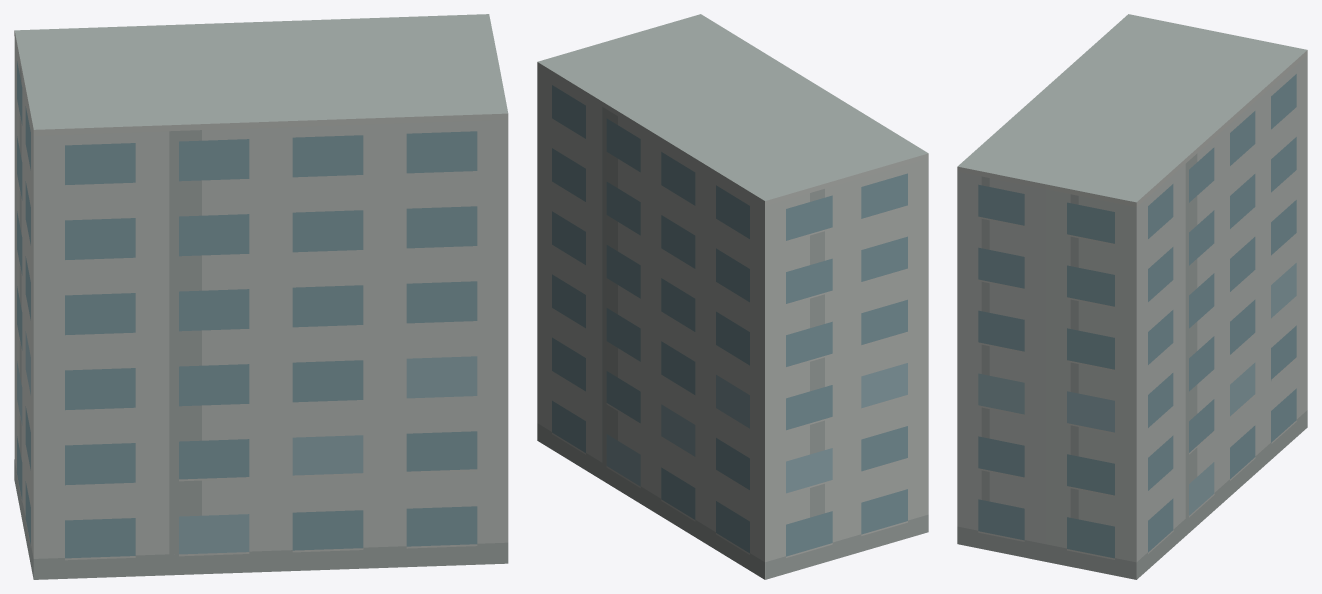
The model's file is residential-16a1b23d-d92b-416e-8d42-b0e648153529.glb.
3 views of the same model, side by side, from view 1: azimuth 30°, elevation 25°; view 2: azimuth 150°, elevation 25°; view 3: azimuth 270°, elevation 25° (orthographic). The views are drawn at different scales.
Parts seen in each view (by area): view 1: residential-16a1b23d-d92b-416e-8d42-b0e648153529.tmp; view 2: residential-16a1b23d-d92b-416e-8d42-b0e648153529.tmp; view 3: residential-16a1b23d-d92b-416e-8d42-b0e648153529.tmp.
Part boxes in pixels (x1,y1,x2,y2): residential-16a1b23d-d92b-416e-8d42-b0e648153529.tmp: [14, 14, 508, 579]; residential-16a1b23d-d92b-416e-8d42-b0e648153529.tmp: [537, 14, 928, 579]; residential-16a1b23d-d92b-416e-8d42-b0e648153529.tmp: [957, 14, 1307, 579].
Bounding box in the file's own units: 19.6 × 18.3 × 15.4.
